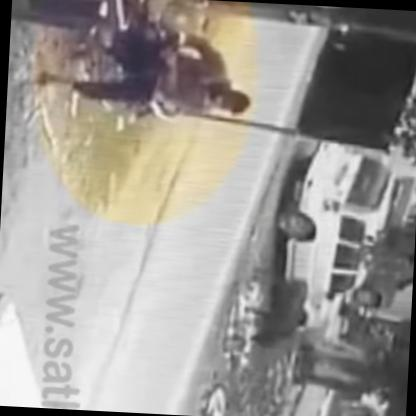Human Body: (34, 29, 254, 117)
